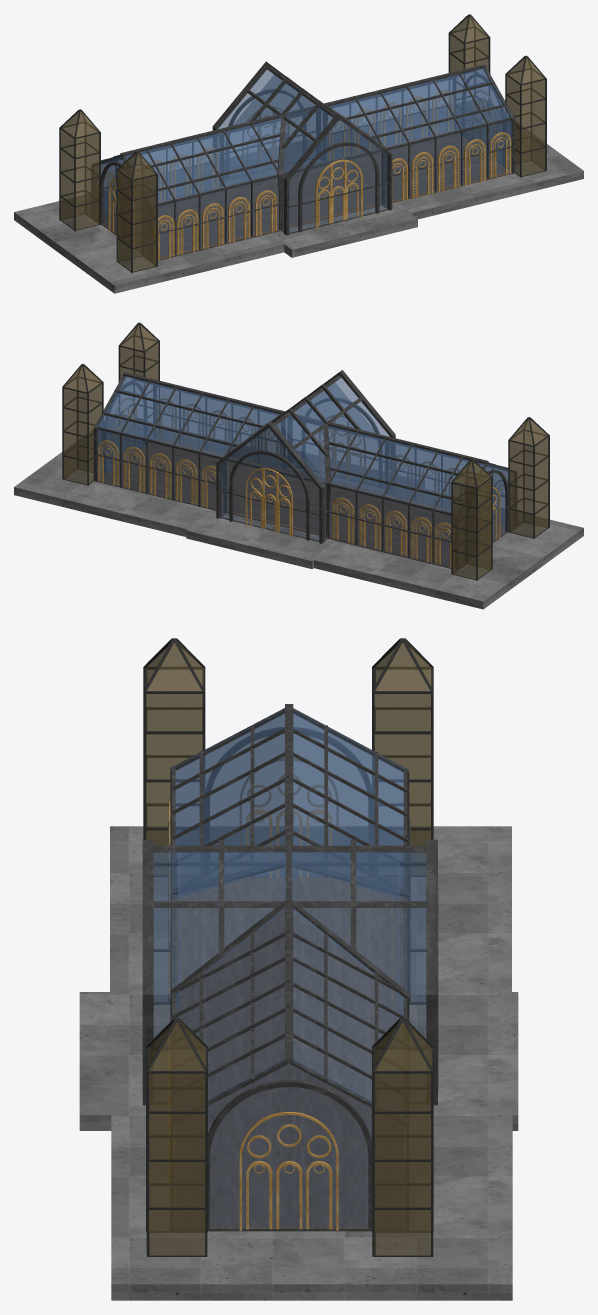
File: modern_luxury_wedding_arch_house_building_design (1).glb
3 renders of one model, top to bottom at view 1: azimuth 30°, elevation 25°; view 2: azimuth 150°, elevation 25°; view 3: azimuth 270°, elevation 25°, orthographic. The views are drawn at different scales.
Parts seen in each view (by area): view 1: Box012_Material #3_0, Box048_Material #5_0, Line002_Material #4_0, Box006_Material #1_0, Rectangle088_Material #6_0, Line019_Material #7_0, Rectangle068_Material #2_0; view 2: Box012_Material #3_0, Box048_Material #5_0, Line002_Material #4_0, Box006_Material #1_0, Rectangle088_Material #6_0, Line019_Material #7_0, Rectangle068_Material #2_0; view 3: Box048_Material #5_0, Box012_Material #3_0, Rectangle088_Material #6_0, Line002_Material #4_0, Box006_Material #1_0, Rectangle068_Material #2_0, Line019_Material #7_0.
Boxes of the visible parts, x1,y1,x2,y2 form: Box012_Material #3_0: (101,68,511,257); Box048_Material #5_0: (14,98,583,293); Line002_Material #4_0: (91,61,515,261); Box006_Material #1_0: (60,16,545,271); Rectangle088_Material #6_0: (102,130,511,258); Line019_Material #7_0: (104,90,511,260); Rectangle068_Material #2_0: (59,14,546,273); Box012_Material #3_0: (96,376,508,566); Box048_Material #5_0: (14,417,583,609); Line002_Material #4_0: (93,370,517,569); Box006_Material #1_0: (63,324,548,579); Rectangle088_Material #6_0: (97,438,506,566); Line019_Material #7_0: (98,398,504,567); Rectangle068_Material #2_0: (62,322,549,580); Box048_Material #5_0: (79,826,518,1300); Box012_Material #3_0: (153,708,426,1227); Rectangle088_Material #6_0: (176,877,403,1228); Line002_Material #4_0: (142,704,438,1231); Box006_Material #1_0: (146,641,431,1255); Rectangle068_Material #2_0: (143,638,433,1256); Line019_Material #7_0: (168,758,338,1230).
Size of the model in its own units: 33.11 by 8.12 by 13.4.
7 materials, 5 textured.
